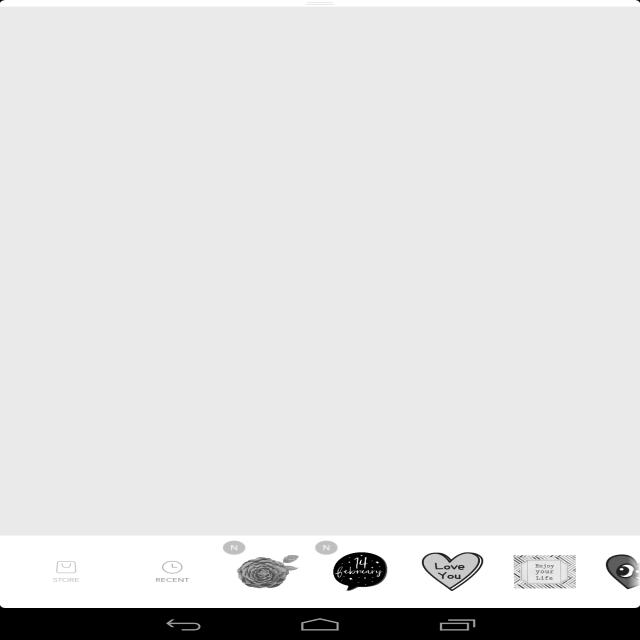ImageView: (0, 0, 640, 608), (0, 0, 640, 533), (277, 543, 363, 608), (192, 490, 282, 543), (370, 490, 460, 543), (15, 490, 104, 543), (282, 490, 371, 543), (460, 490, 549, 543), (104, 490, 192, 543), (0, 0, 640, 7), (548, 490, 632, 543), (422, 552, 483, 591), (333, 552, 388, 591), (514, 555, 576, 589), (237, 555, 299, 588), (606, 554, 640, 590), (522, 490, 532, 543), (315, 536, 338, 554), (223, 536, 245, 554)
ProgressBar: (304, 79, 336, 99)
SeekBar: (598, 145, 636, 345)
TextView: (277, 7, 363, 60), (389, 560, 502, 591), (138, 560, 250, 591), (502, 560, 614, 591), (27, 560, 138, 591), (137, 560, 208, 583), (53, 560, 80, 583), (0, 474, 21, 490), (96, 554, 122, 566)
